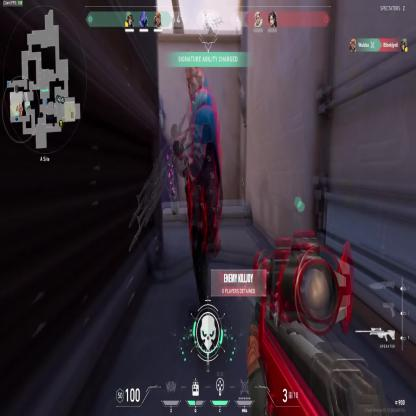enemy: (168, 53, 226, 323)
enemy_head: (185, 69, 205, 104)
